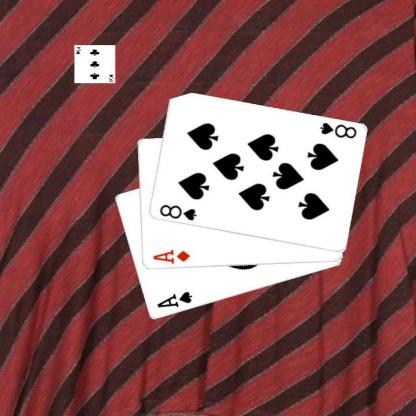8S: (156, 202, 198, 223), (316, 120, 358, 140)
AD: (150, 247, 191, 265)
AS: (154, 289, 193, 309)
